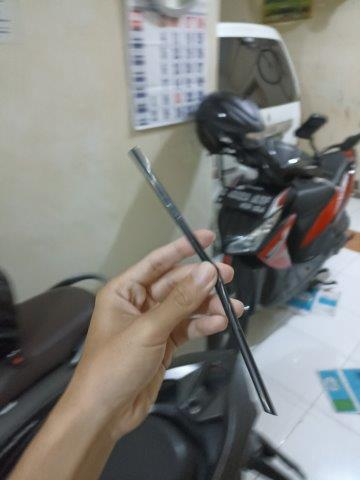sedotan: (130, 147, 274, 412)
